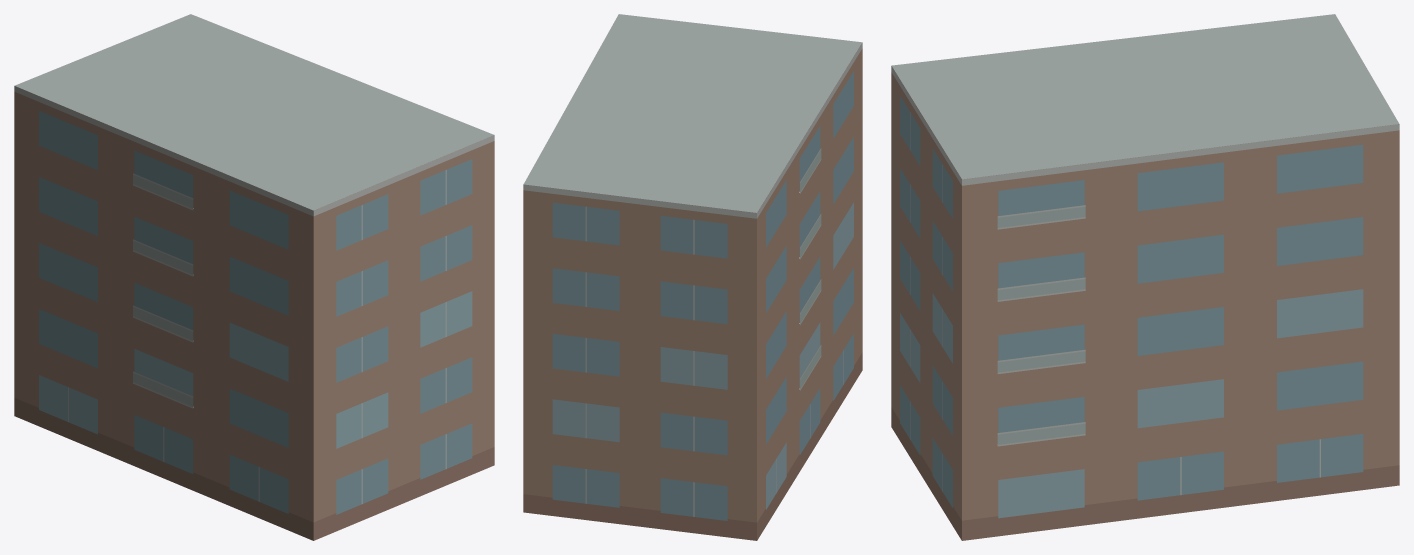
The model's file is survey-upis-32579405.glb.
3 views of the same model, side by side, from view 1: azimuth 30°, elevation 25°; view 2: azimuth 150°, elevation 25°; view 3: azimuth 270°, elevation 25° (orthographic). The views are drawn at different scales.
Parts seen in each view (by area): view 1: survey-upis-32579405.tmp; view 2: survey-upis-32579405.tmp; view 3: survey-upis-32579405.tmp.
Part boxes in pixels (bbox=[...]): survey-upis-32579405.tmp: bbox=[14, 14, 494, 540]; survey-upis-32579405.tmp: bbox=[523, 14, 862, 540]; survey-upis-32579405.tmp: bbox=[891, 14, 1399, 540].
Bounding box in the file's own units: 13.55 × 13.8 × 17.59.
